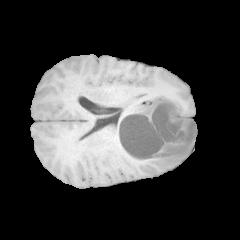glioma: (114, 97, 197, 167)
